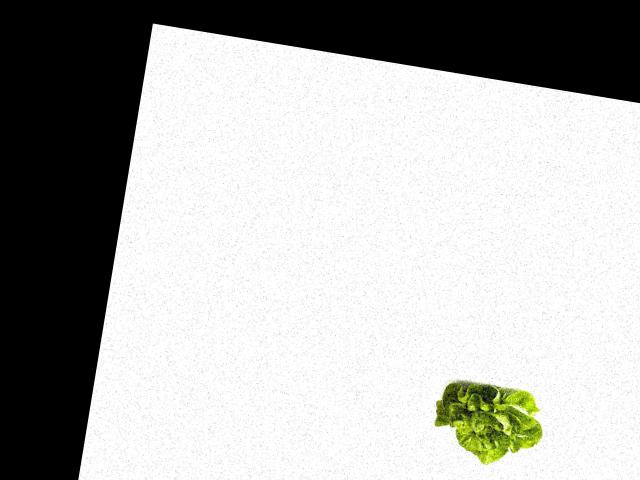lettuce: (426, 375, 552, 472)
